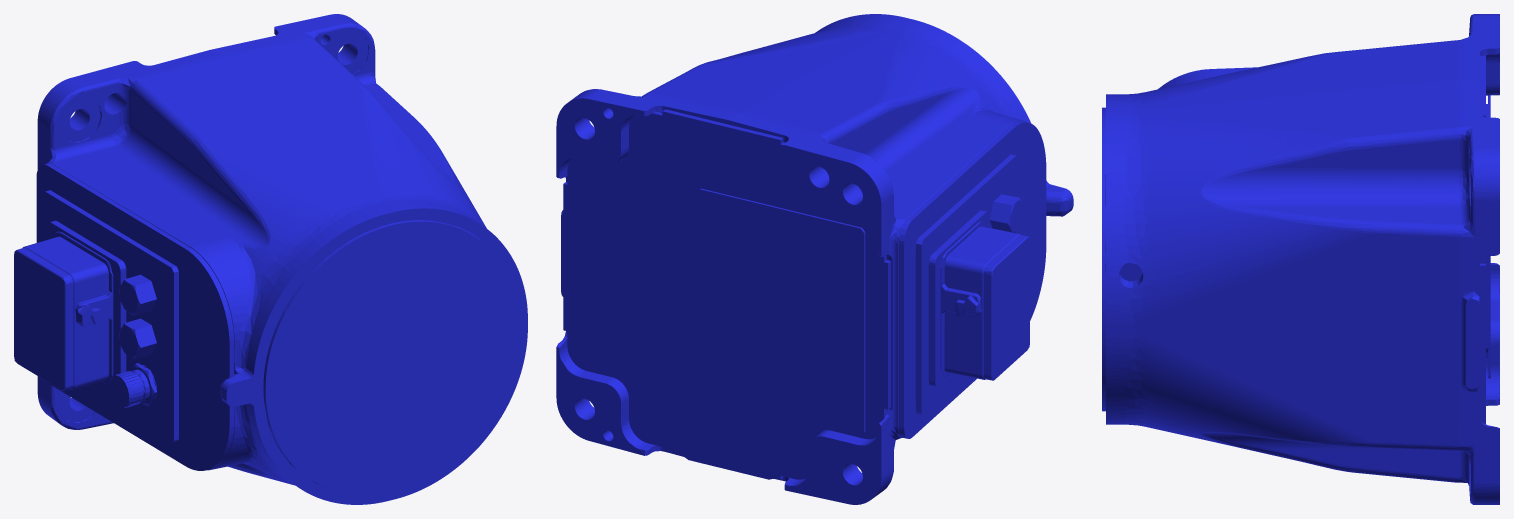
File: BaseLink.glb
The picture shows the model from 3 angles, left to right: view 1: azimuth 30°, elevation 25°; view 2: azimuth 150°, elevation 25°; view 3: azimuth 270°, elevation 25°; orthographic projection. The views are drawn at different scales.
Visible parts, largest first — view 1: /BaseLink/BaseLink_002-mesh/0; view 2: /BaseLink/BaseLink_002-mesh/0; view 3: /BaseLink/BaseLink_002-mesh/0.
Part boxes in pixels (<box>): /BaseLink/BaseLink_002-mesh/0: <box>14,14,527,504</box>; /BaseLink/BaseLink_002-mesh/0: <box>556,14,1073,504</box>; /BaseLink/BaseLink_002-mesh/0: <box>1102,14,1499,504</box>.
Size of the model in its own units: 0.2373 by 0.1995 by 0.199.
